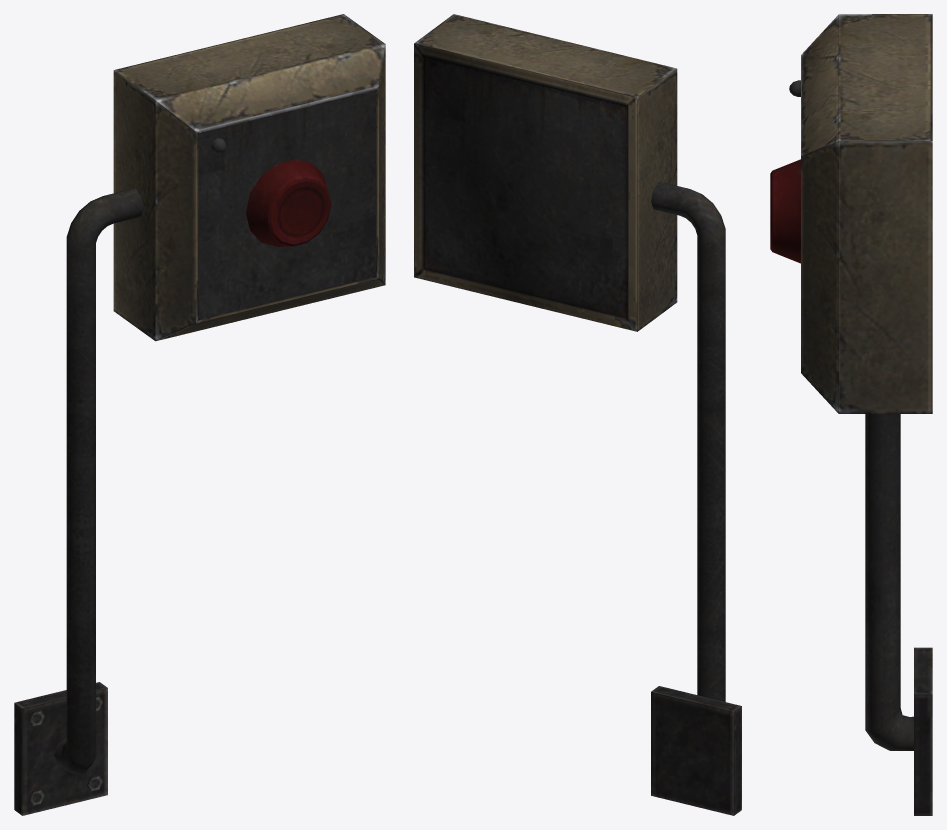
Rendered from button_red_glow.dae.
3 views of the same model, side by side, from view 1: azimuth 30°, elevation 25°; view 2: azimuth 150°, elevation 25°; view 3: azimuth 270°, elevation 25° (orthographic). The views are drawn at different scales.
Parts seen in each view (by area): view 1: button_red_glow, button_mesh; view 2: button_red_glow; view 3: button_red_glow, button_mesh.
Boxes of the visible parts, x1,y1,x2,y2 form: button_red_glow: [14, 14, 385, 815]; button_mesh: [246, 159, 331, 246]; button_red_glow: [414, 14, 741, 815]; button_red_glow: [789, 14, 932, 815]; button_mesh: [770, 159, 800, 263].
Bounding box in the file's own units: 0.4758 × 0.9853 × 0.179.
